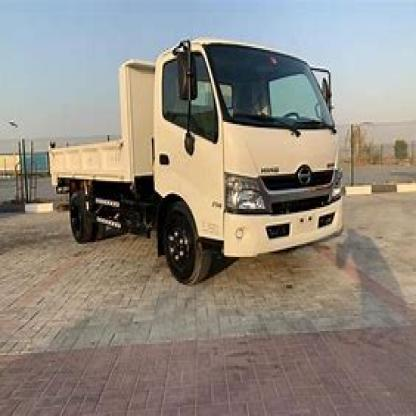dump_truck: (49, 29, 352, 283)
